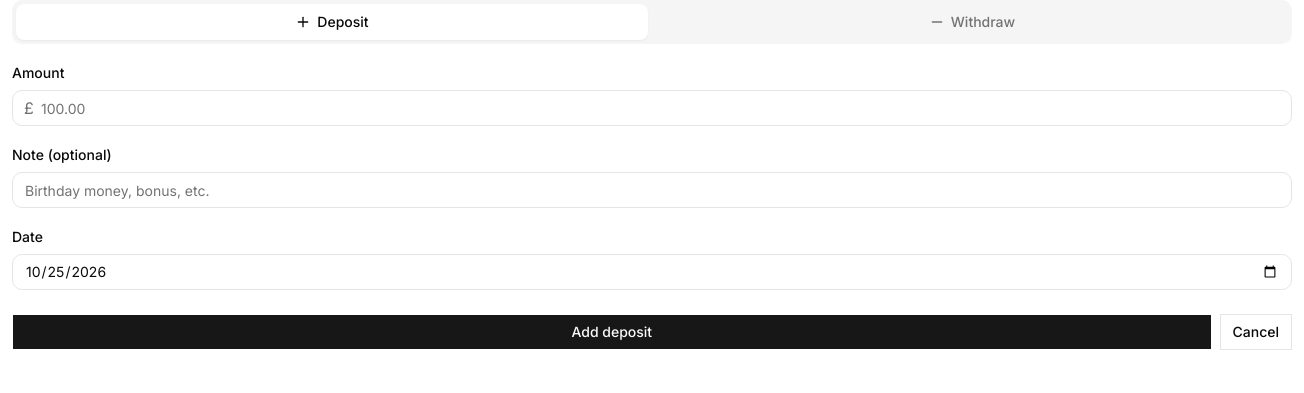
ContributionForm (KAN-68) › rejects amount of 0 or less
Type "0" into the number field labelled "Amount" at (652, 108), box [12, 90, 1292, 126]
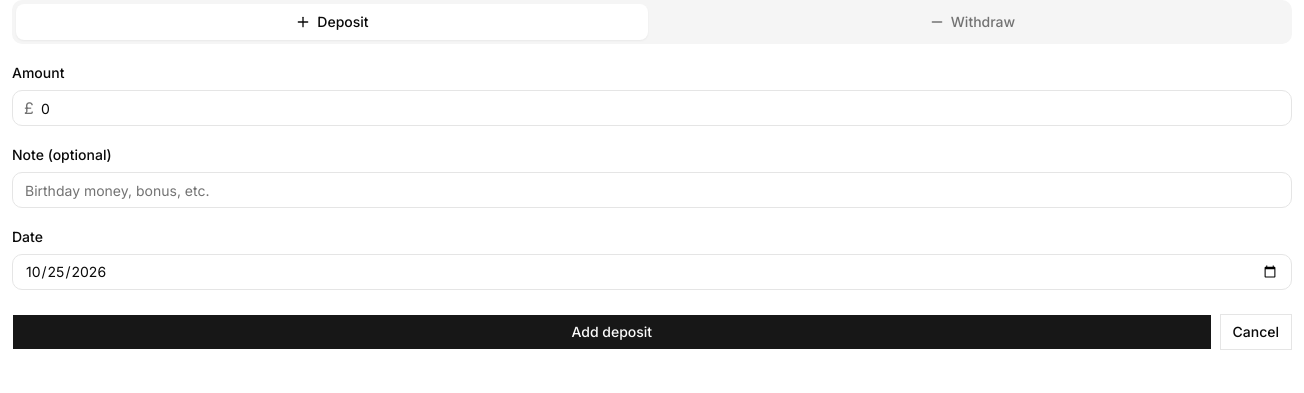
Click the button "Add deposit" at (612, 332), box [12, 314, 1212, 350]
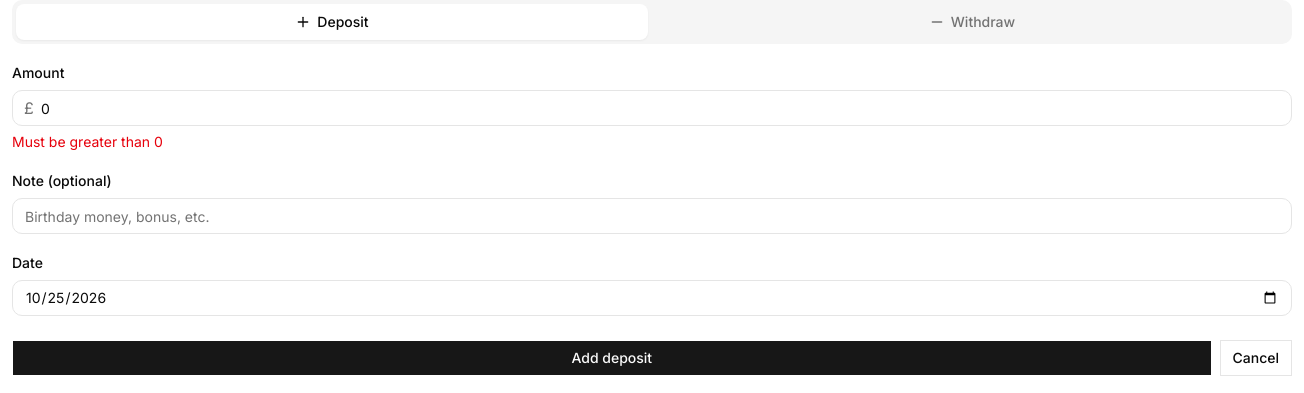
Expected: the text "Must be greater than 0" is shown, [12, 133, 163, 150]
